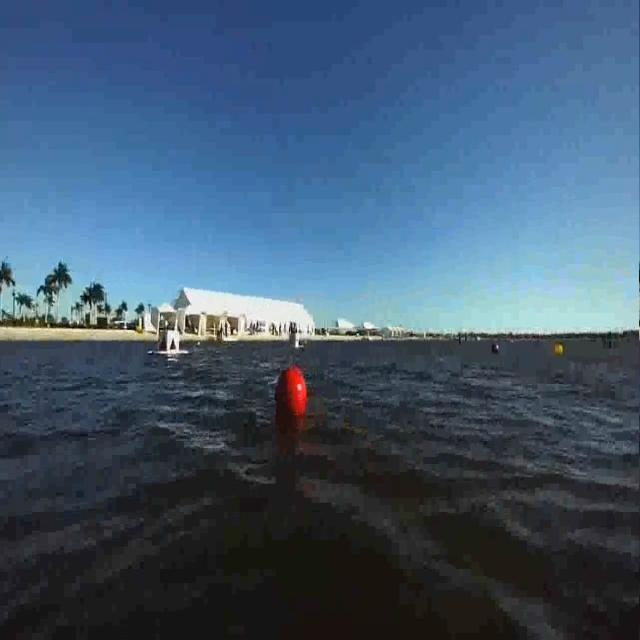red-buoy: (274, 366, 309, 418)
yellow-buoy: (555, 342, 565, 358)
